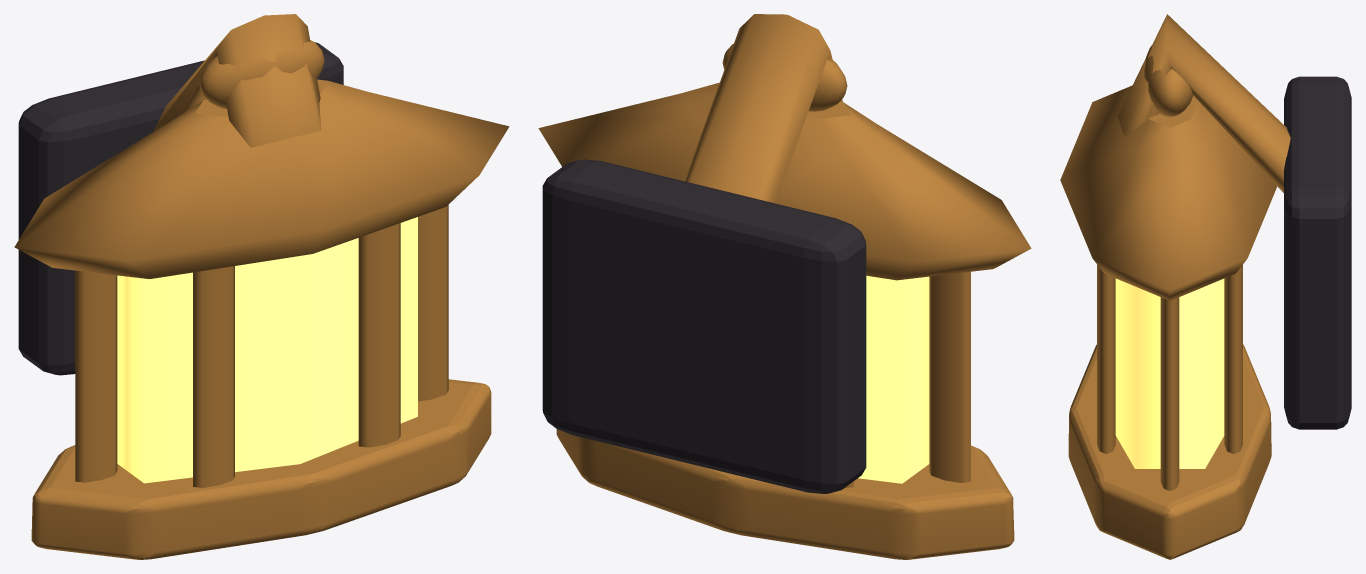
The model's file is bedroom-lamp.glb.
3 views of the same model, side by side, from view 1: azimuth 30°, elevation 25°; view 2: azimuth 150°, elevation 25°; view 3: azimuth 270°, elevation 25° (orthographic). The views are drawn at different scales.
Visible parts, largest first — view 1: bedroom_lamp_pivot_Mesh; view 2: bedroom_lamp_pivot_Mesh; view 3: bedroom_lamp_pivot_Mesh.
Boxes of the visible parts, x1,y1,x2,y2 form: bedroom_lamp_pivot_Mesh: [14, 14, 509, 559]; bedroom_lamp_pivot_Mesh: [538, 14, 1031, 559]; bedroom_lamp_pivot_Mesh: [1060, 14, 1351, 559].
Size of the model in its own units: 0.52 by 0.4835 by 0.29.
